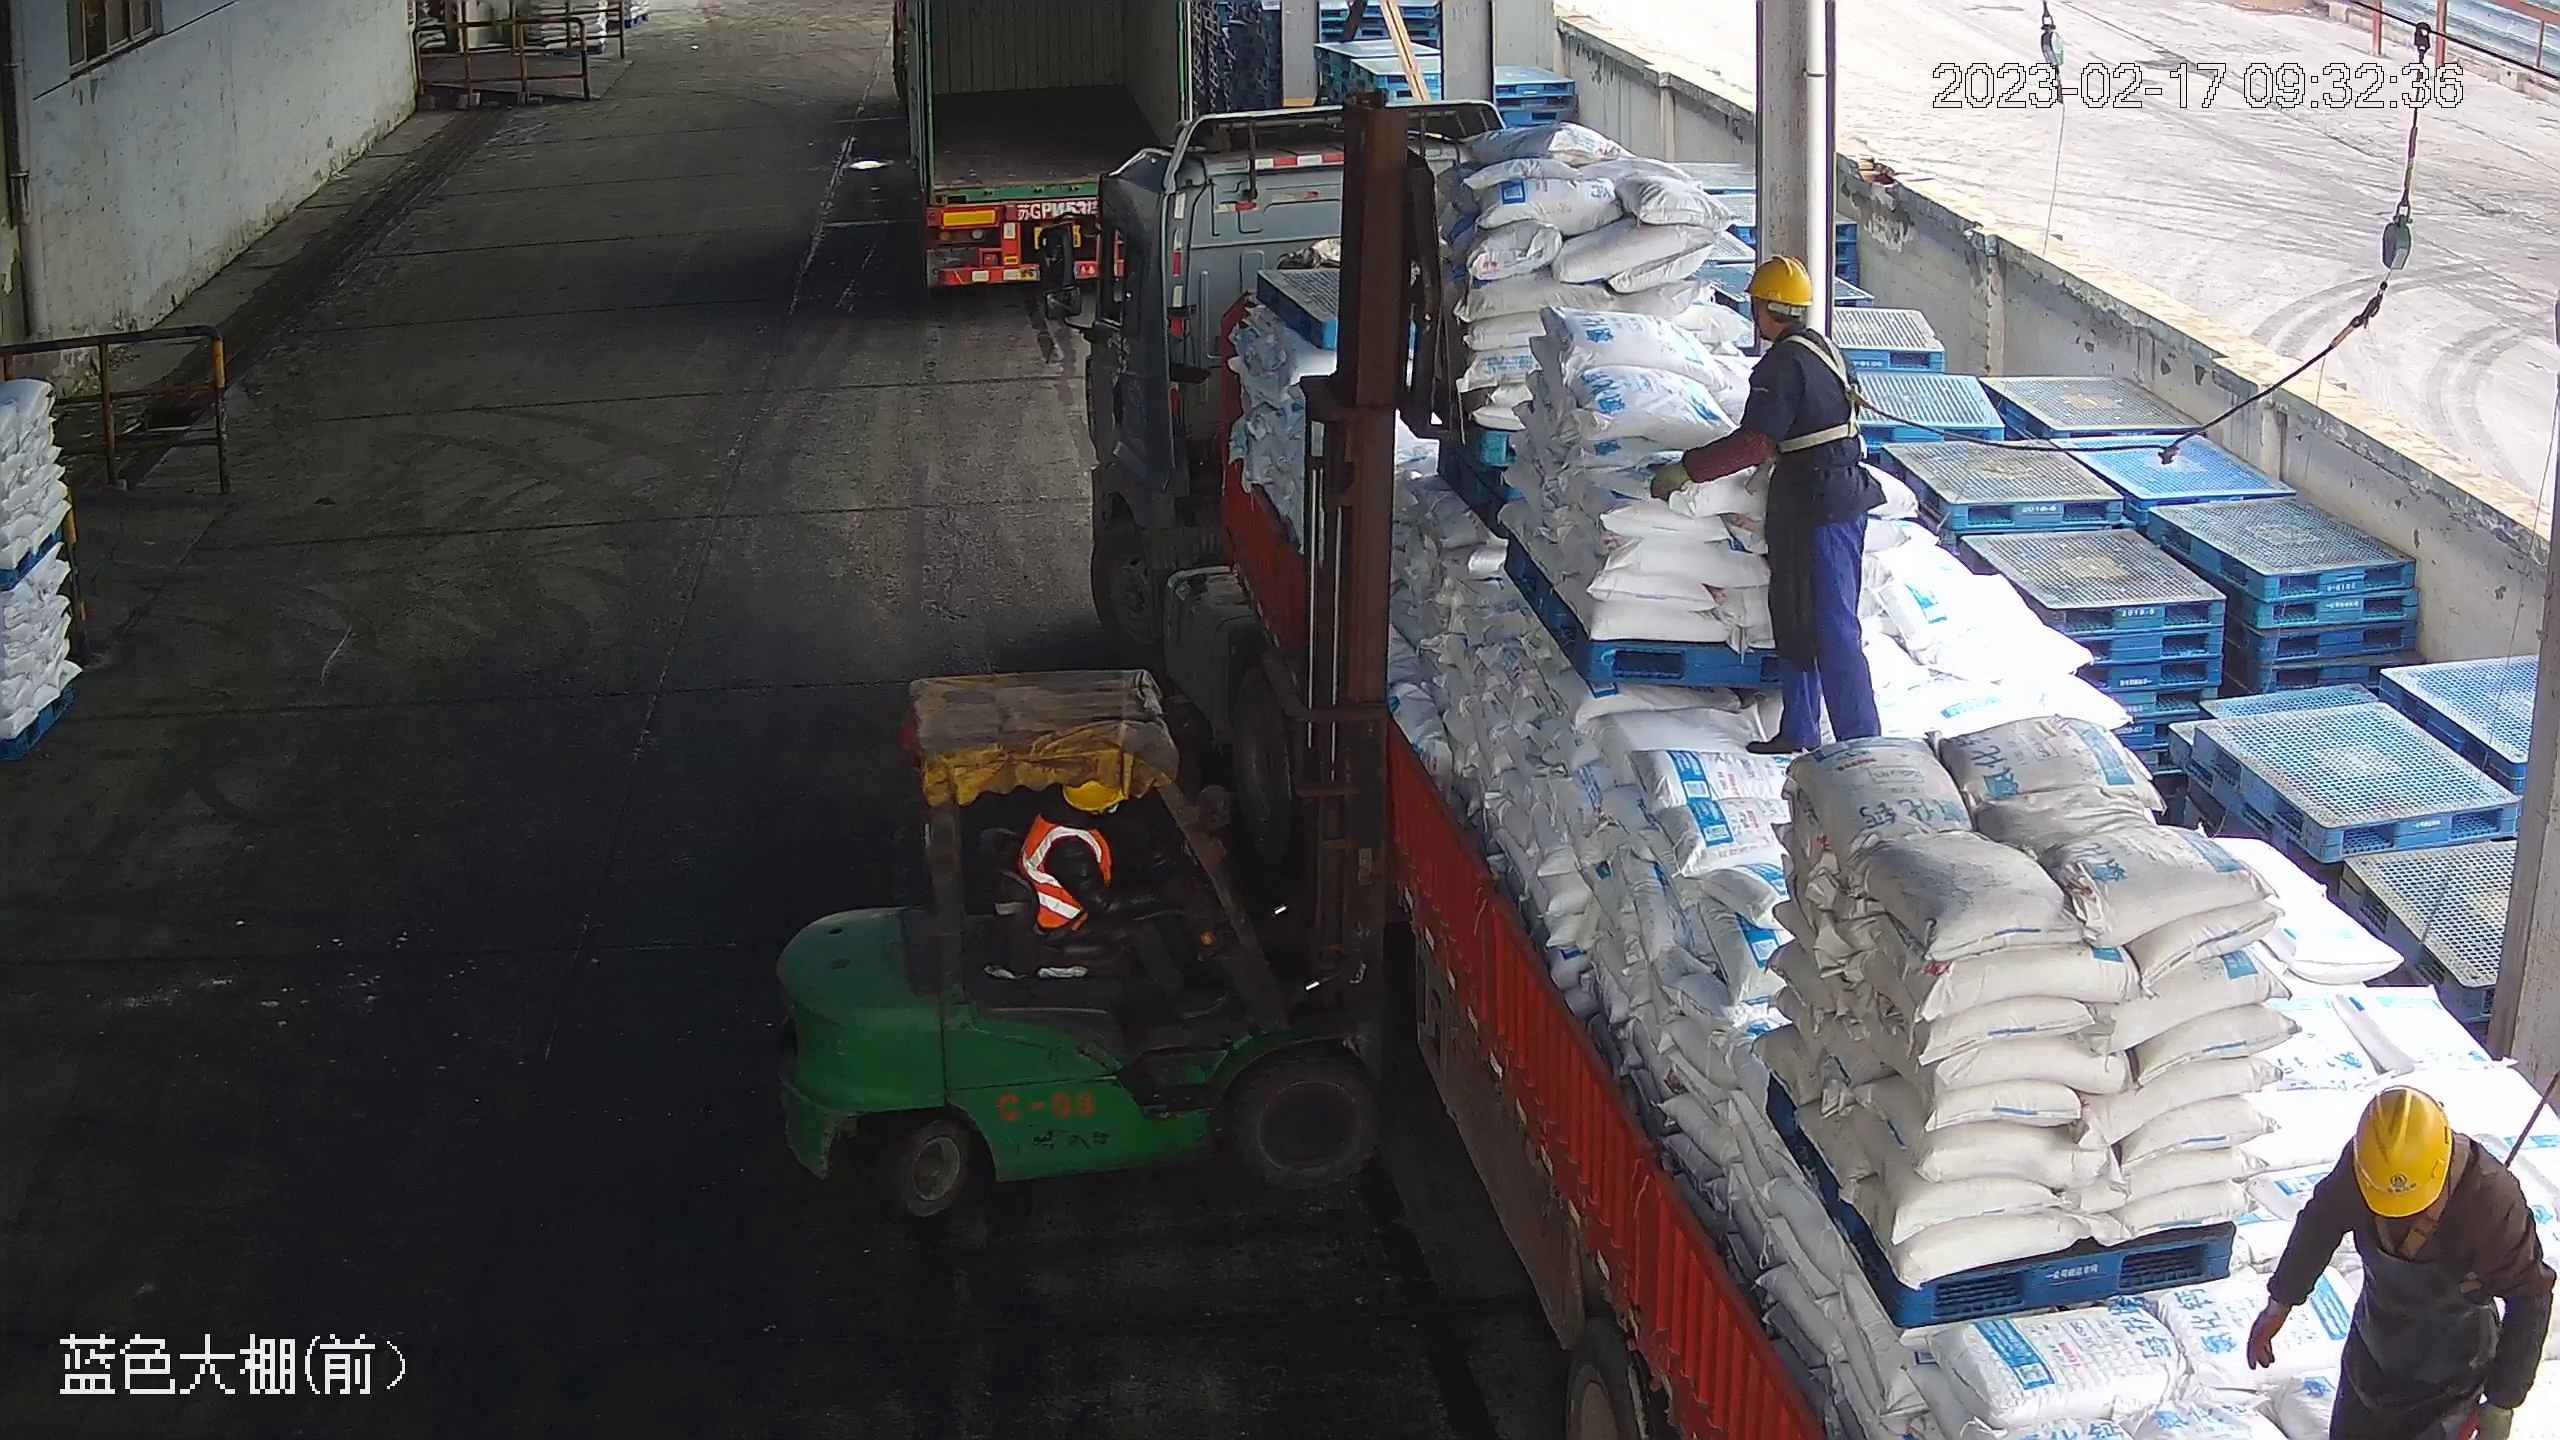belt: (2362, 1135, 2471, 1272), (1779, 329, 1881, 449)
head: (2302, 1086, 2519, 1266), (1735, 252, 1860, 403), (1030, 772, 1141, 876)
helmet: (2351, 1086, 2457, 1213), (1741, 251, 1817, 307), (1058, 776, 1128, 815)
people: (1646, 247, 1884, 758), (2245, 1083, 2554, 1440), (1011, 775, 1227, 1009)
truck: (1043, 92, 2560, 1440), (884, 1, 1197, 292)
